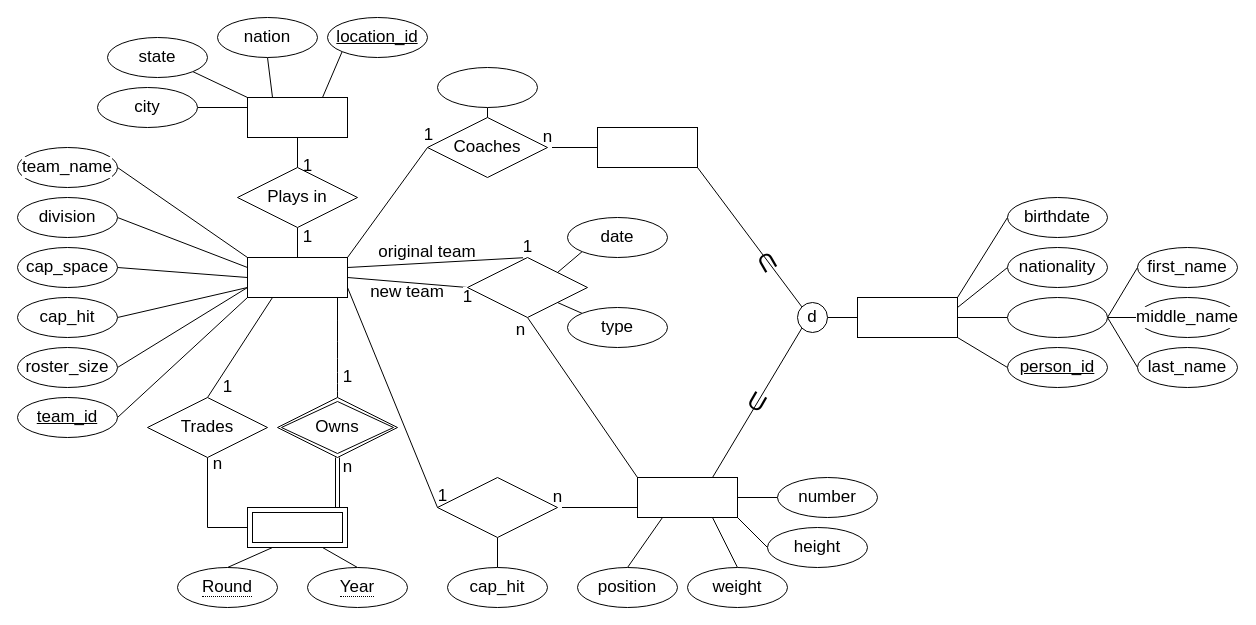
The diagram is 1256 pixels wide and 625 high, and some of its shapes have lost their labels. The shapes that lost their labels are listed below. From the top down, each one's centre as x and y in pixels, then its label:
At [487,87]: "role".
At [297,117]: "Location".
At [647,147]: "Coach".
At [297,277]: "Team".
At [527,287]: "transaction".
At [907,317]: "Person".
At [1057,317]: "name".
At [497,507]: "Contract".
At [687,497]: "Player".
At [297,527]: "Asset".
